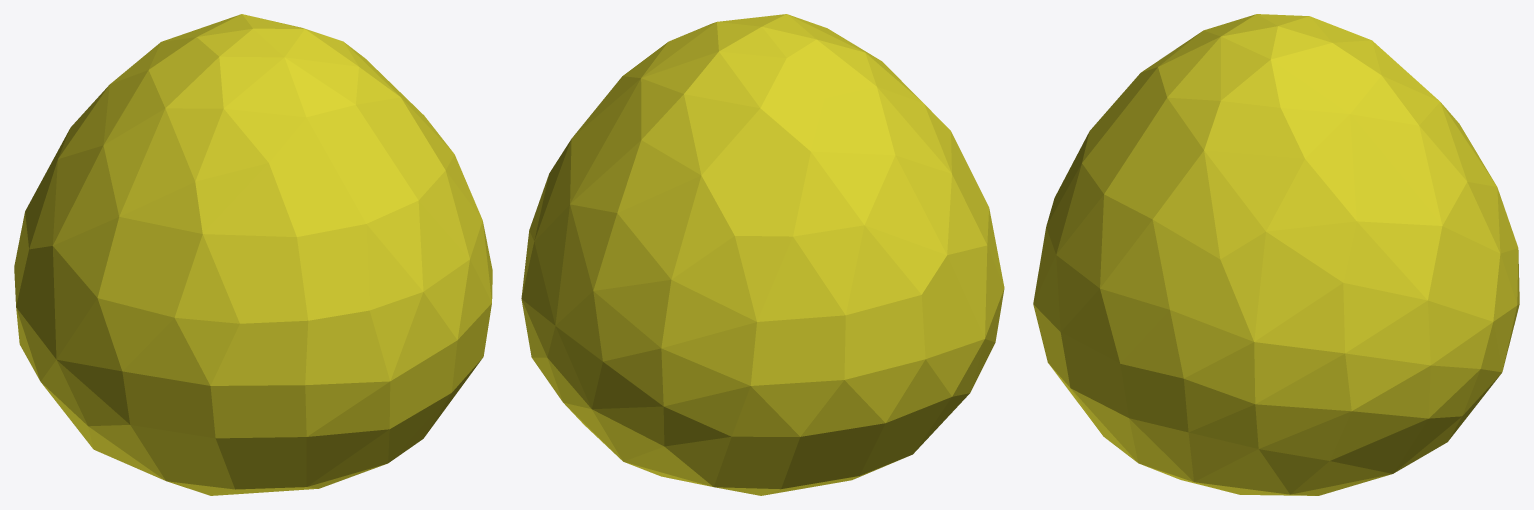
Rendered from Plant_15.fbx.
3 renders of one model, left to right at view 1: azimuth 30°, elevation 25°; view 2: azimuth 150°, elevation 25°; view 3: azimuth 270°, elevation 25°, orthographic.
Visible parts, largest first — view 1: Plant_15; view 2: Plant_15; view 3: Plant_15.
Part boxes in pixels (x1,y1,x2,y2): Plant_15: (14, 14, 492, 495); Plant_15: (521, 14, 1004, 495); Plant_15: (1033, 14, 1519, 495).
Bounding box in the file's own units: 75.99 × 72.48 × 75.74.
